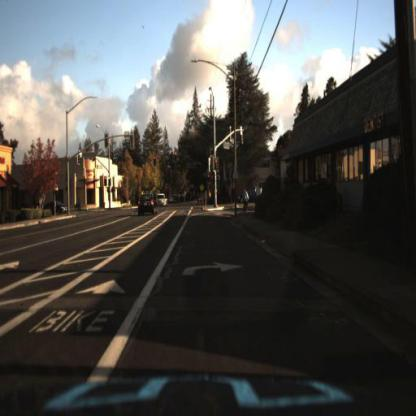biker: (73, 197, 85, 214)
car: (236, 184, 269, 207), (137, 192, 161, 216), (43, 199, 70, 217), (44, 200, 68, 216), (155, 194, 171, 212), (157, 191, 169, 208)
pedestrian: (240, 183, 251, 215)
trafficLight-Red: (213, 156, 220, 174), (174, 150, 180, 166), (174, 152, 179, 164)
trafficLight-RedLeft: (104, 175, 109, 188), (153, 156, 157, 169)
